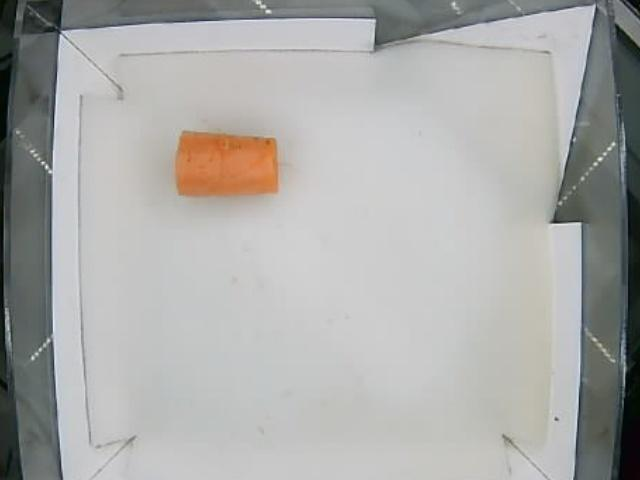Carrot: (174, 129, 280, 197)
